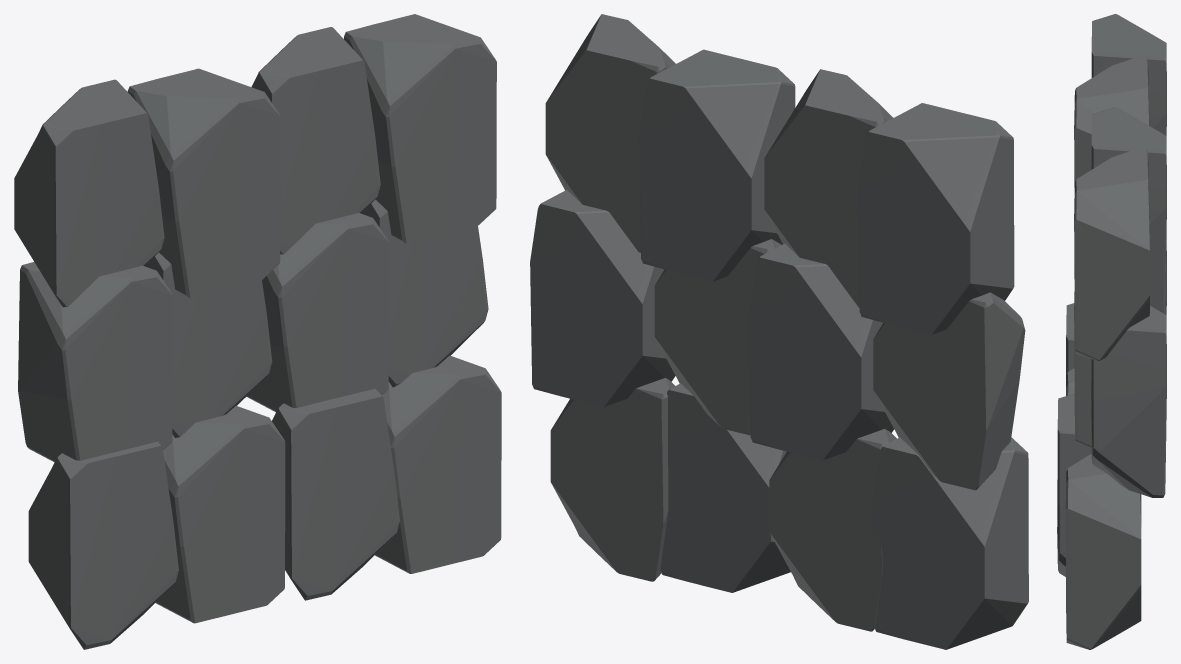
The model's file is BlockWall.fbx.
The picture shows the model from 3 angles, left to right: view 1: azimuth 30°, elevation 25°; view 2: azimuth 150°, elevation 25°; view 3: azimuth 270°, elevation 25°; orthographic projection. The views are drawn at different scales.
Parts seen in each view (by area): view 1: Rock 4.028; view 2: Rock 4.028; view 3: Rock 4.028.
Part boxes in pixels (<box>): Rock 4.028: <box>14,14,501,649</box>; Rock 4.028: <box>530,14,1028,649</box>; Rock 4.028: <box>1057,14,1166,649</box>.
Size of the model in its own units: 1365 by 1519 by 333.
